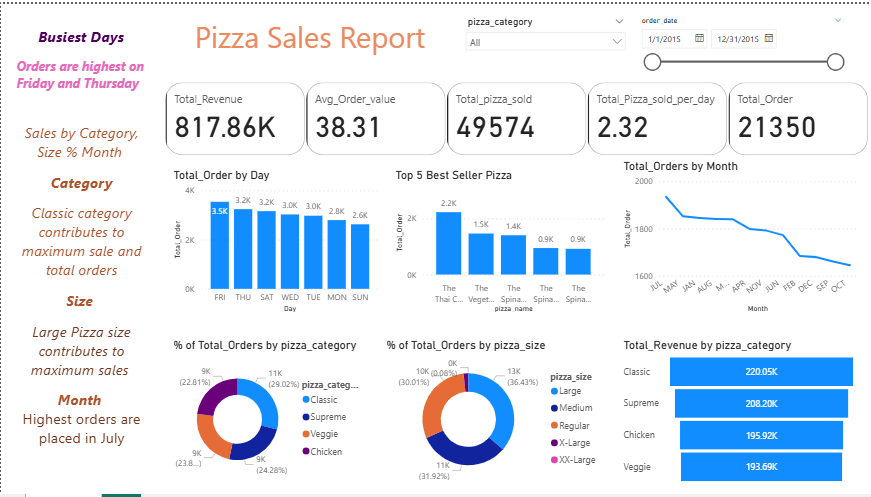

What the dashboard file says about the page in this screenshot:
{"tool":"powerbi","page":{"name":"Page 1","canvas":[1280,720],"ordinal":0},"visuals":[{"type":"columnChart","fields":{"Category":["Sheet1.Day"],"Y":["Sheet1.Total_Order"]},"box":[248.6,241.9,312.4,216.7],"z":0},{"type":"donutChart","title":"% of Total_Orders by pizza_category","fields":{"Category":["Sheet1.pizza_category"],"Y":["Sheet1.Total_Order"]},"box":[248.6,490.5,290.6,220.1],"z":1000},{"type":"donutChart","title":"% of Total_Orders by pizza_size","fields":{"Category":["Sheet1.pizza_size"],"Y":["Sheet1.Total_Order"]},"box":[561,490.5,330.9,220.1],"z":2000},{"type":"funnel","fields":{"Y":["Sheet1.Total_Revenue"],"Category":["Sheet1.pizza_category"]},"box":[910.4,490.5,352.8,220.1],"z":3000},{"type":"cardVisual","fields":{"Data":["Sheet1.Total_Revenue","Sheet1.Avg_Order_value","Sheet1.Total_pizza_sold","Sheet1.Total_Pizza_sold_per_day","Sheet1.Total_Order"]},"box":[236.9,110.9,1043.1,117.6],"z":4000},{"type":"textbox","box":[260.4,13.4,399.8,82.3],"z":5000},{"type":"slicer","fields":{"Values":["Sheet1.pizza_category"]},"box":[673.6,13.4,255.3,82.3],"z":6000},{"type":"slicer","fields":{"Values":["Sheet1.order_date"]},"box":[929.3,13.2,319,99.5],"z":7000},{"type":"lineChart","title":"Total_Orders by Month","fields":{"Category":["Sheet1.Month"],"Y":["Sheet1.Total_Order"]},"box":[910.4,228.5,352.8,230.1],"z":8000},{"type":"columnChart","title":"Top 5 Best Seller Pizza","fields":{"Category":["Sheet1.pizza_name"],"Y":["Sheet1.Total_Order"]},"box":[574.5,241.9,317.5,216.7],"z":9000},{"type":"textbox","box":[0,13.4,236.9,697.1],"z":10000},{"type":"textbox","box":[17.6,27.8,200.5,134.6],"z":11000},{"type":"textbox","box":[13.2,169.8,210.7,513.7],"z":12000}]}

Visuals, with their boxes in screenshot pixels (x1, y1, x2, y2), scaled from the page's 1280x720 canvas onto the 871x497 screenshot:
columnChart - Sheet1.Day x Sheet1.Total_Order: <bbox>169, 167, 382, 317</bbox>
"% of Total_Orders by pizza_category" donutChart: <bbox>169, 339, 367, 491</bbox>
"% of Total_Orders by pizza_size" donutChart: <bbox>382, 339, 607, 491</bbox>
funnel - Sheet1.Total_Revenue x Sheet1.pizza_category: <bbox>619, 339, 860, 491</bbox>
cardVisual - Sheet1.Total_Revenue x Sheet1.Avg_Order_value: <bbox>161, 77, 870, 158</bbox>
textbox: <bbox>177, 9, 449, 66</bbox>
slicer - Sheet1.pizza_category: <bbox>458, 9, 632, 66</bbox>
slicer - Sheet1.order_date: <bbox>632, 9, 849, 78</bbox>
"Total_Orders by Month" lineChart: <bbox>619, 158, 860, 317</bbox>
"Top 5 Best Seller Pizza" columnChart: <bbox>391, 167, 607, 317</bbox>
textbox: <bbox>0, 9, 161, 490</bbox>
textbox: <bbox>12, 19, 148, 112</bbox>
textbox: <bbox>9, 117, 152, 472</bbox>
